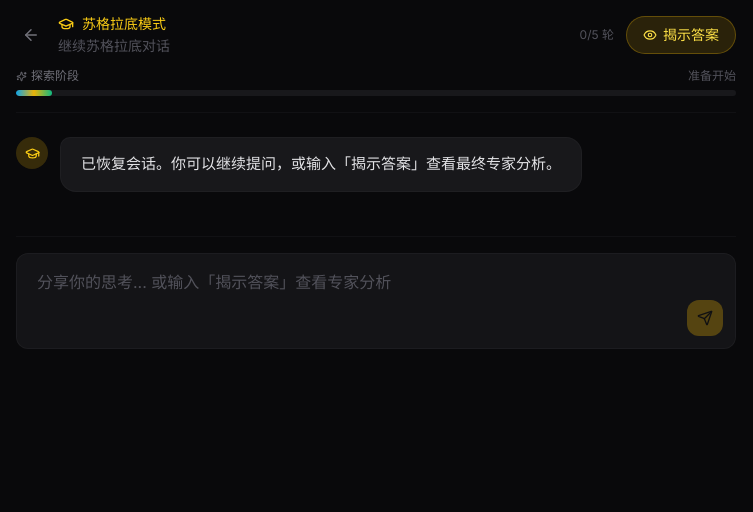
it: SocraticPage › socraticRespond reject 时用户消息保留且错误可见
The image size is (753, 512).
In the text box with placeholder "分享你的思考... 或输入「揭示答案」查看专家分析": coordinates (376, 298) [17,254,735,342], type "Why does this happen?"
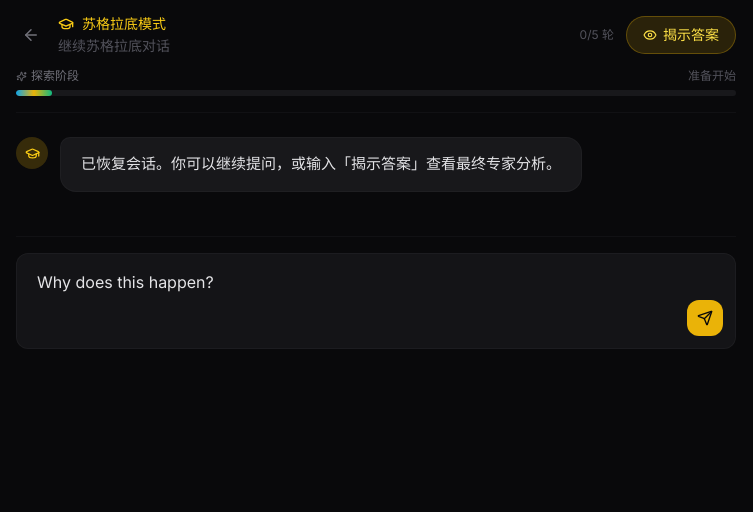
Press Enter in the text box with placeholder "分享你的思考... 或输入「揭示答案」查看专家分析", box [17,254,735,342]
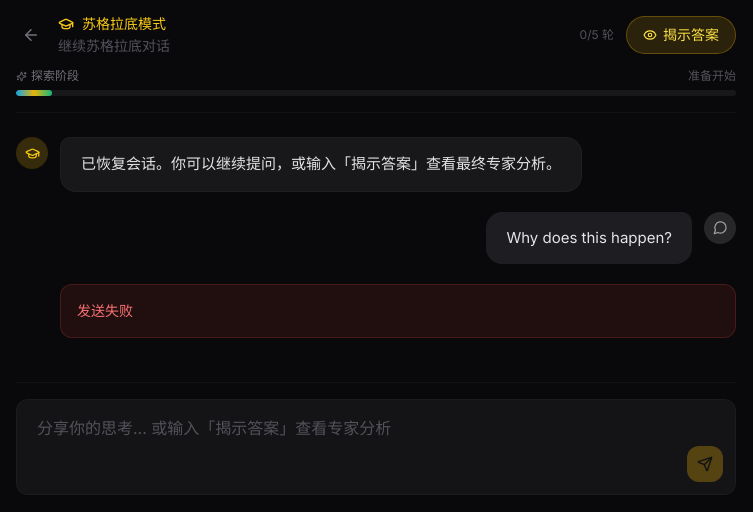
Expected: the text "Why does this happen?" is shown, [506,228,672,248]
Expected: the text "发送失败" is shown, [60,284,736,338]
